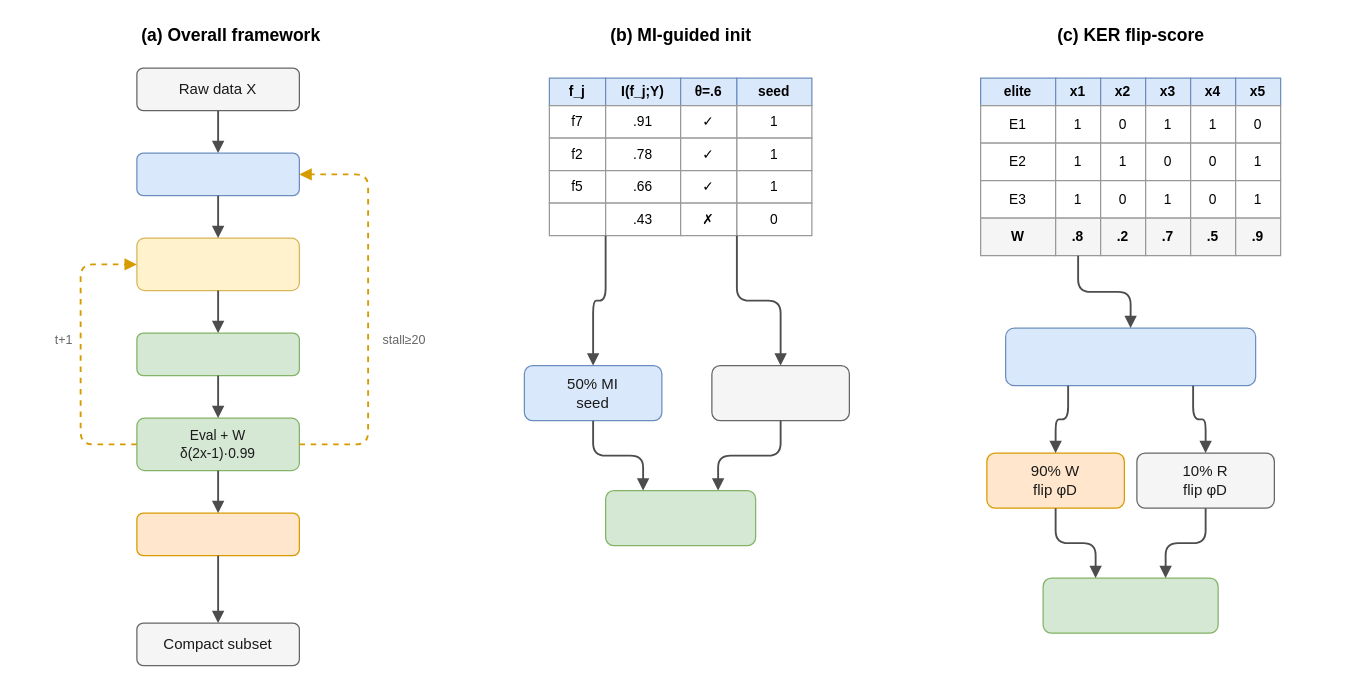
This 1358x688 diagram has some shape labels left out. Here are the shapes that lost their labels. From the top down, the centre of each, then its label:
At [217,174]: "MI-guided init".
At [577,219]: "f9".
At [217,264]: "Two-phase loop [.7,.3]->[.95,.05]".
At [217,354]: "Dual update".
At [1130,356]: "σ_j=+W_j if x_j=0 σ_j=-W_j if x_j=1".
At [780,392]: "50% rand seed".
At [217,534]: "KER top-3".
At [680,517]: "N=20 initial pop".
At [1130,605]: "Keep if f improves".
